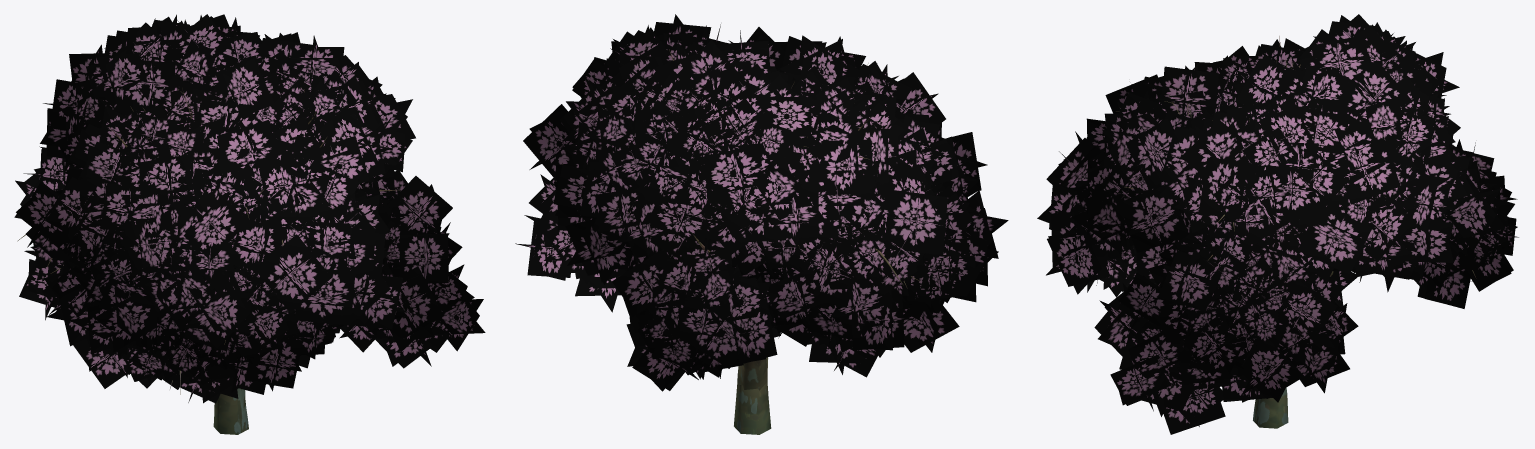
File: Tree4.fbx
3 renders of one model, left to right at view 1: azimuth 30°, elevation 25°; view 2: azimuth 150°, elevation 25°; view 3: azimuth 270°, elevation 25°, orthographic. The views are drawn at different scales.
Visible parts, largest first — view 1: TreeLeaf3, TreeTrunk3; view 2: TreeLeaf3, TreeTrunk3; view 3: TreeLeaf3, TreeTrunk3.
Part boxes in pixels (left/top/right/bottom): TreeLeaf3: left=14, top=14, right=485, bottom=403; TreeTrunk3: left=17, top=75, right=400, bottom=434; TreeLeaf3: left=515, top=14, right=1008, bottom=391; TreeTrunk3: left=562, top=49, right=919, bottom=434; TreeLeaf3: left=1037, top=14, right=1518, bottom=434; TreeTrunk3: left=1097, top=36, right=1476, bottom=428.
Bounding box in the file's own units: 15.38 × 15.56 × 13.83.
2 materials, 2 textured.
